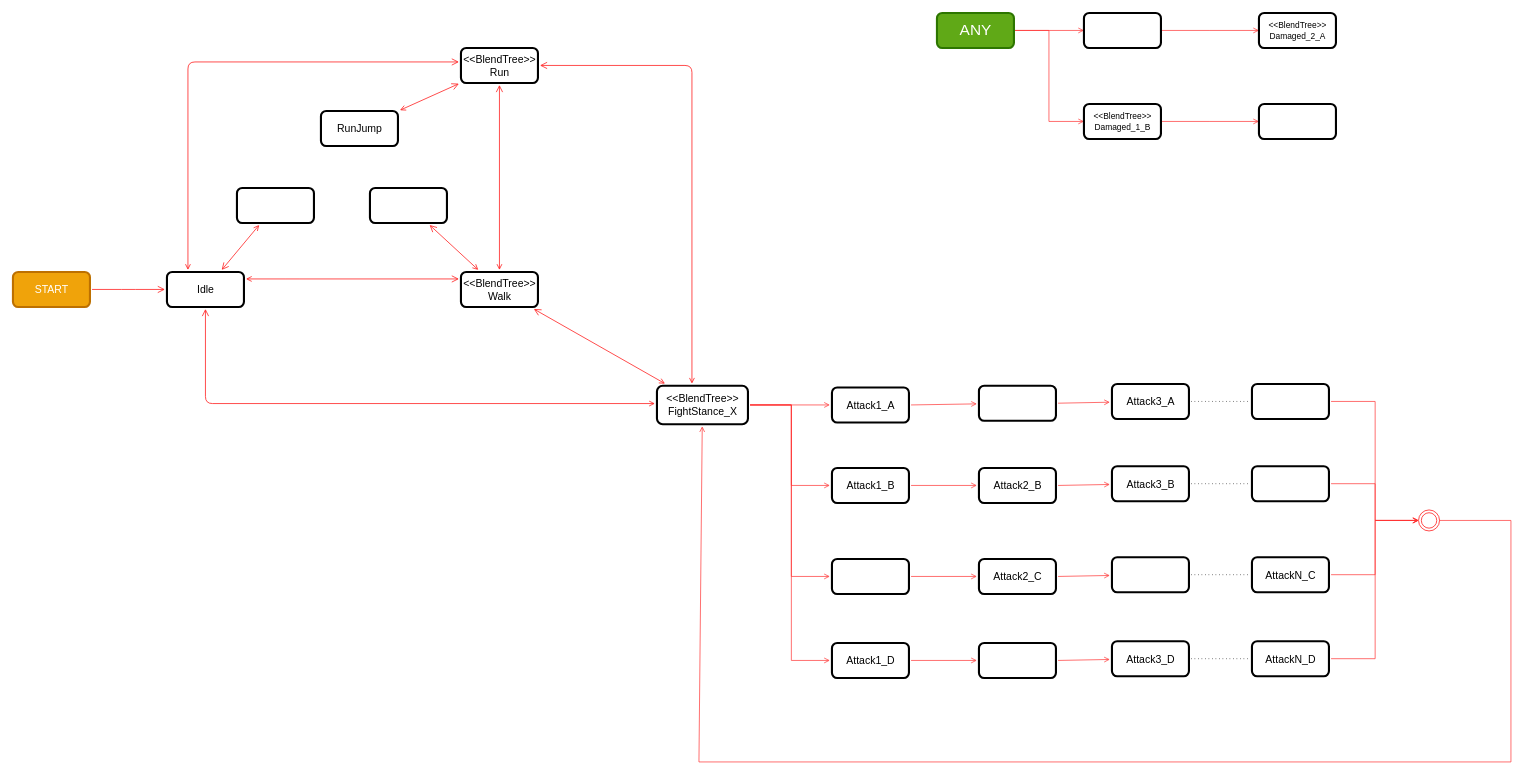
Image size: 1529x780. Some labels were removed from this diagram. Here are the shapes that lost their labels. From the top down, the box of each, then its label:
(1083, 12, 1162, 49): <<BlendTree>> Damaged_1_A
(1258, 103, 1337, 140): <<BlendTree>> Damaged_2_B
(236, 187, 315, 224): IdleJump
(369, 187, 448, 224): WalkJump
(978, 384, 1057, 421): Attack2_A
(1251, 383, 1330, 420): AttackN_A
(1251, 465, 1330, 502): AttackN_B
(831, 558, 910, 595): Attack1_C
(1111, 556, 1190, 593): Attack3_C
(978, 642, 1057, 679): Attack2_D
